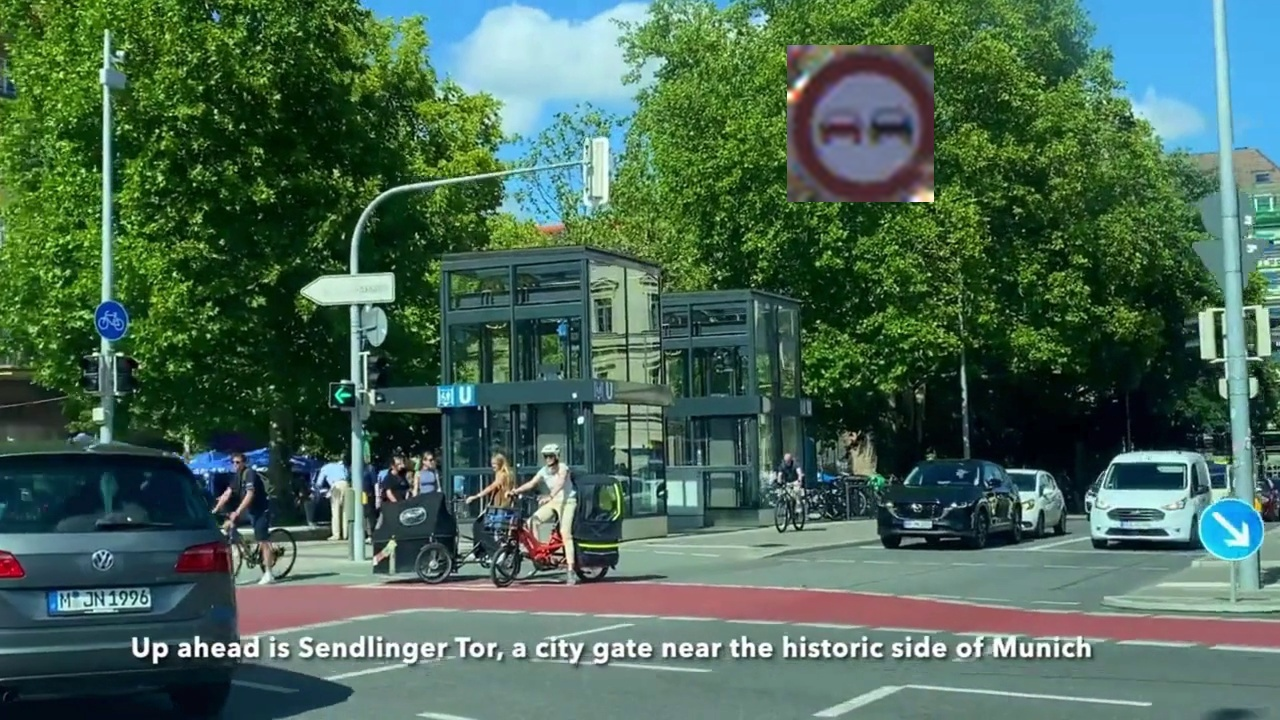No passing: (787, 45, 934, 202)
